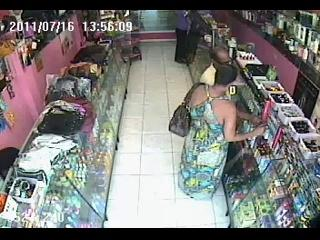Normal: (176, 66, 268, 202), (200, 46, 240, 86), (174, 10, 191, 64), (168, 102, 190, 138)
